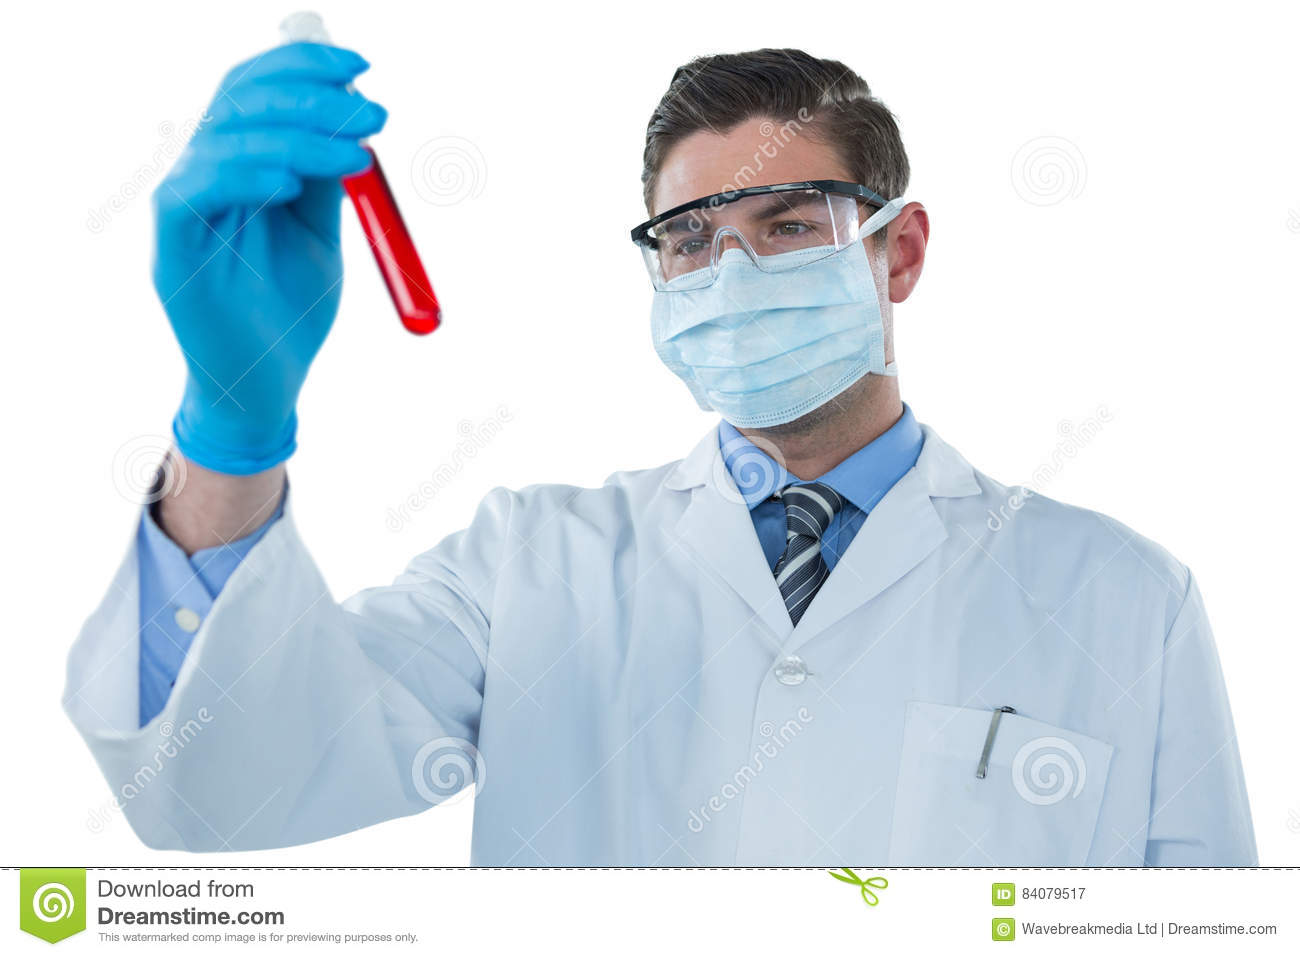mask: (632, 263, 914, 417)
